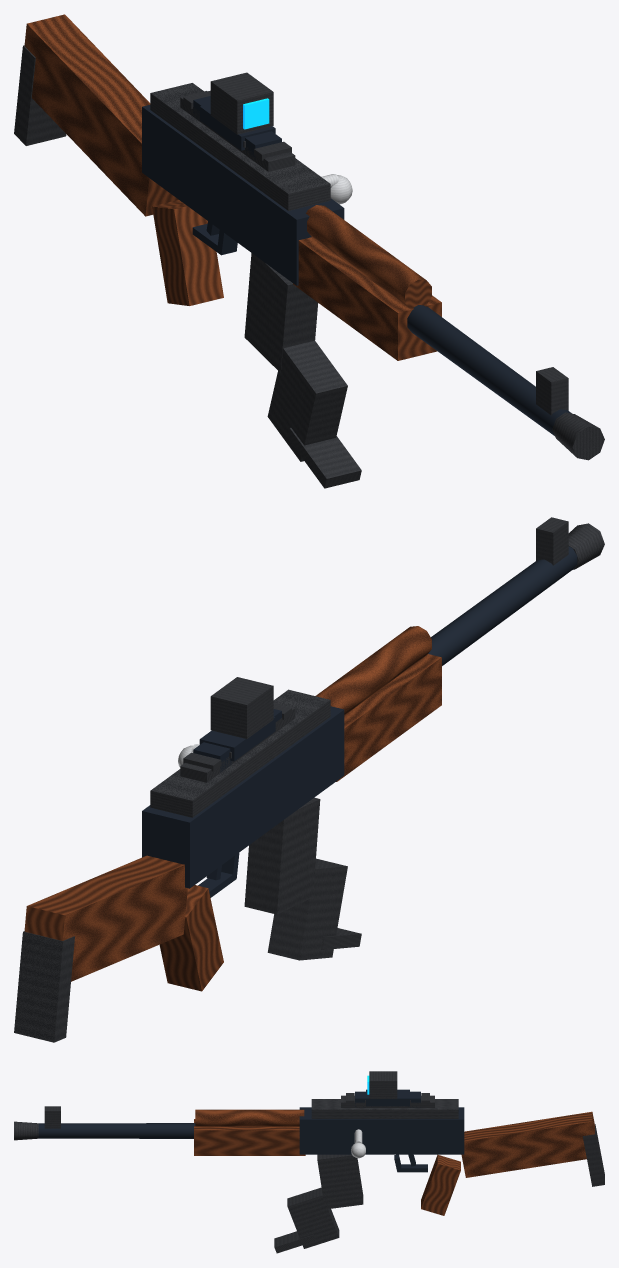
The picture shows the model from 3 angles, top to bottom: view 1: azimuth 30°, elevation 25°; view 2: azimuth 150°, elevation 25°; view 3: azimuth 270°, elevation 25°; orthographic projection. The views are drawn at different scales.
Visible parts, largest first — view 1: weapon_ak24, MagazineNode; view 2: weapon_ak24, MagazineNode; view 3: weapon_ak24, MagazineNode, BoltHandleNode.
Part boxes in pixels (bbox=[...]): weapon_ak24: bbox=[14, 14, 604, 460]; MagazineNode: bbox=[244, 253, 361, 488]; weapon_ak24: bbox=[14, 517, 604, 1042]; MagazineNode: bbox=[244, 797, 361, 960]; weapon_ak24: bbox=[14, 1071, 604, 1215]; MagazineNode: bbox=[274, 1154, 363, 1253]; BoltHandleNode: bbox=[351, 1129, 365, 1158].
Bounding box in the file's own units: 0.1145 × 0.3245 × 1.
6 materials, 3 textured.
